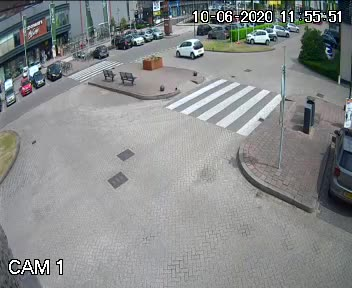car: (172, 34, 203, 57), (195, 23, 213, 41)
